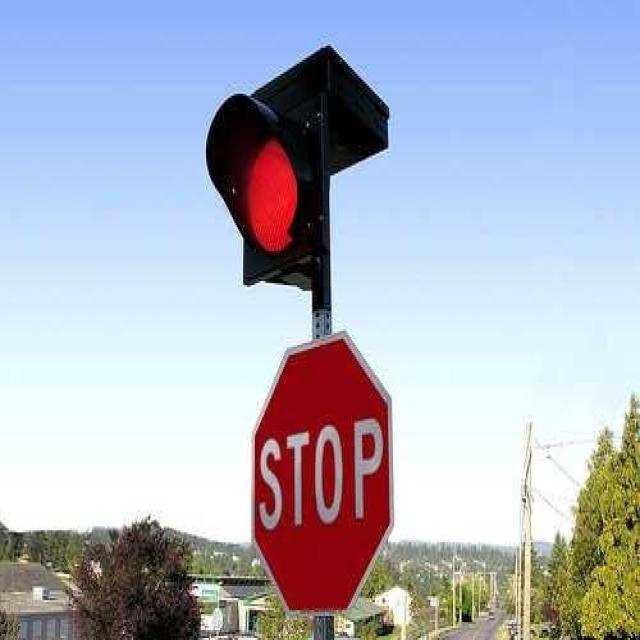Traffic Light -Red-: (206, 77, 330, 340)
